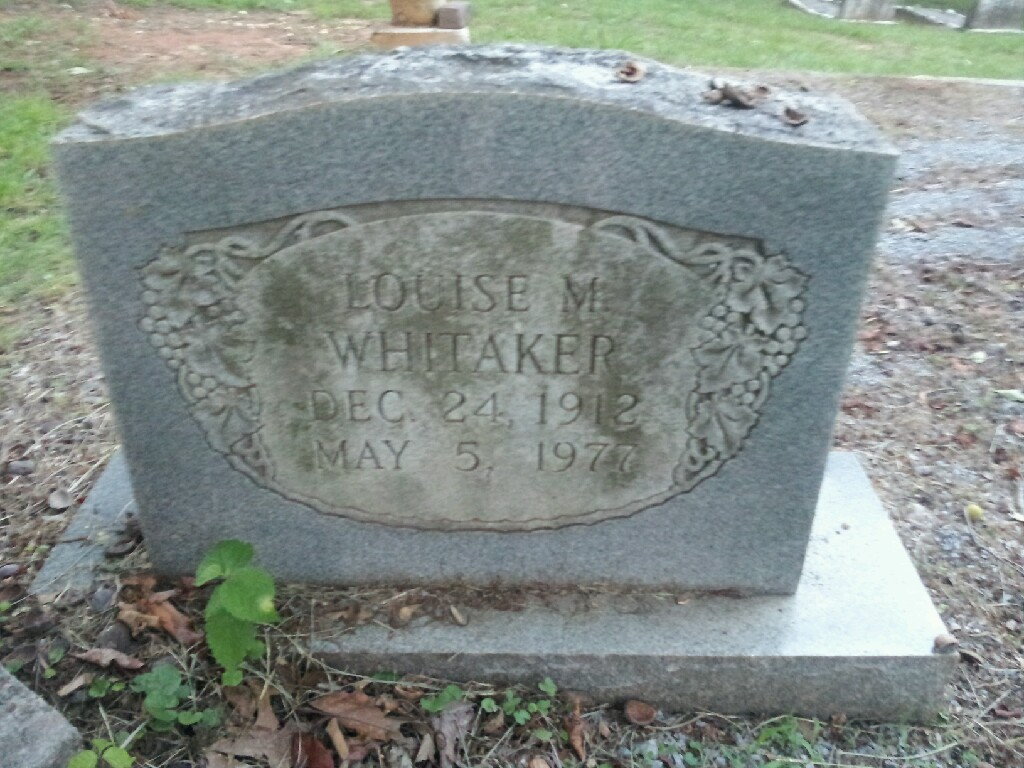upright: (35, 8, 961, 743)
